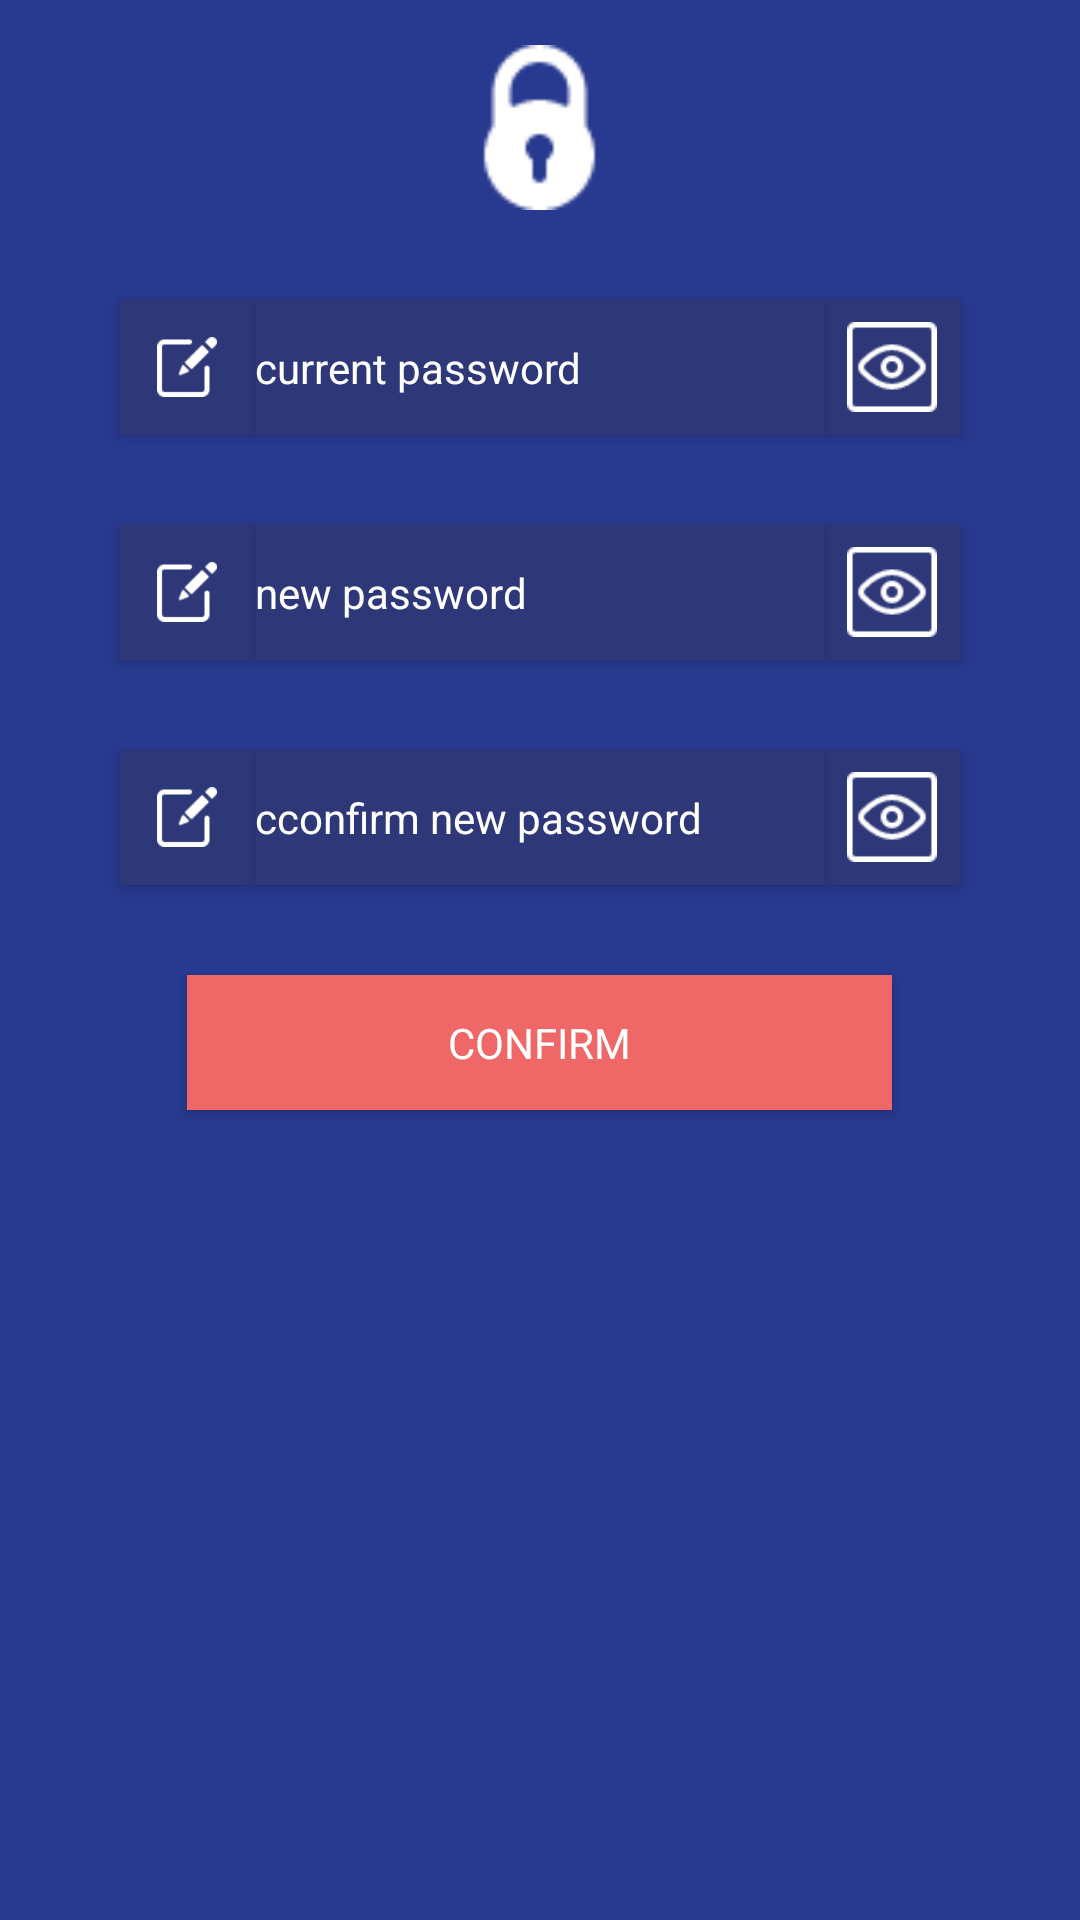

Icon click points for this 1080px×1920px phone screenshot, format point (x, y):
eye: point (892, 367), point (892, 592), point (892, 817)
lock: point (539, 127)
pencil: point (187, 367), point (187, 592), point (187, 817)
